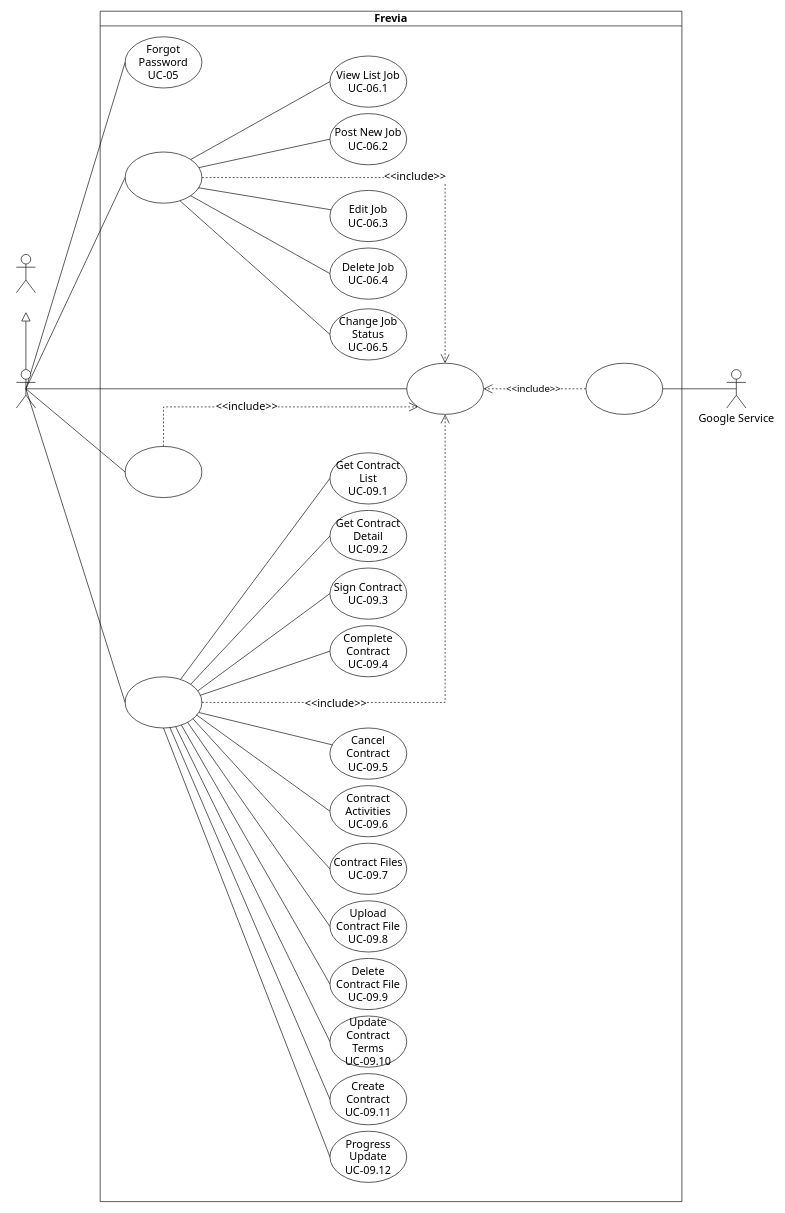
Some shapes in this 785 by 1213 pixel diagram are drawn without their labels. The shapes that lost their labels are listed below. From the top down, each one's centre as x and y in pixels, then its label:
At pixel 163 177: "Manage Job UC-06".
At pixel 26 273: "Guest".
At pixel 26 388: "Client".
At pixel 445 388: "Login UC-07".
At pixel 624 388: "Login with Google UC-07.1".
At pixel 163 472: "Logout UC-08".
At pixel 163 702: "Manage Contract UC-09".
